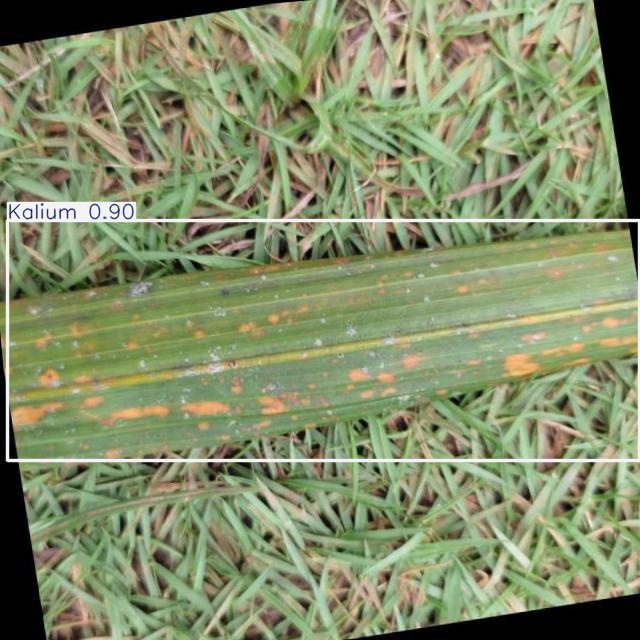Kalium: (7, 220, 639, 461)
